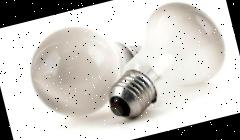lightbulb: (89, 0, 237, 123), (20, 11, 151, 126)
